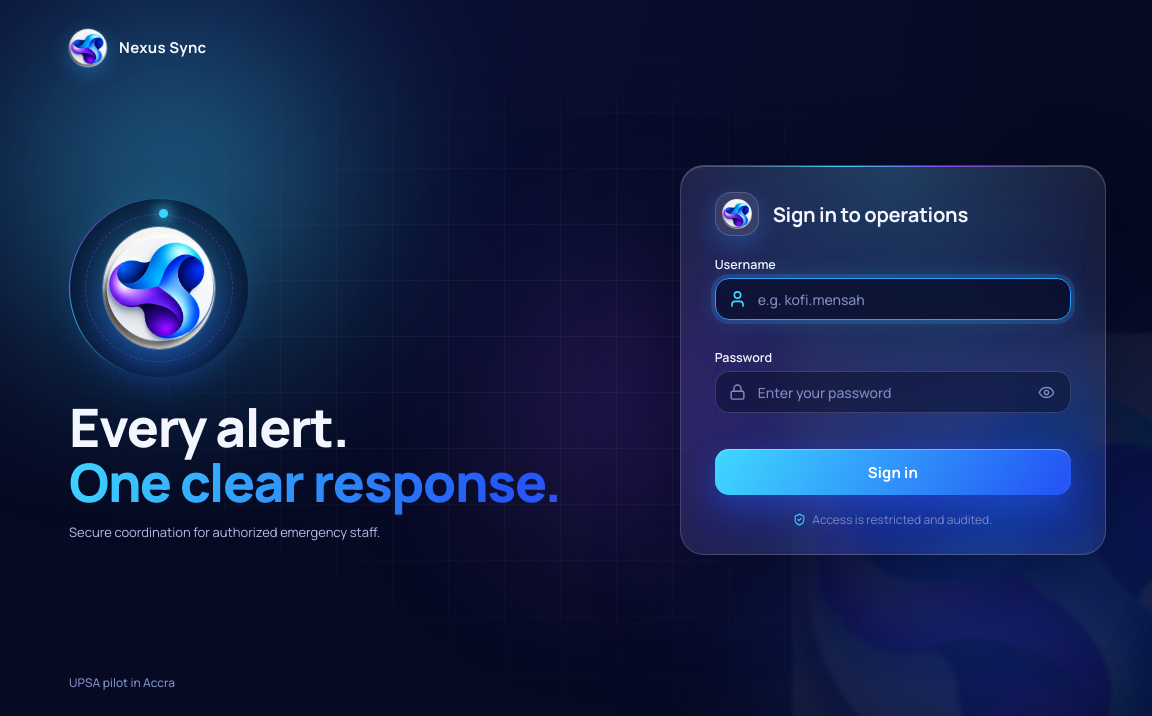
Scenario: App auth access control › submits login form and navigates to dashboard
The image size is (1152, 716).
In the field labelled "Username": coordinates (893, 299) left=715, top=278, right=1071, bottom=320, type "  coordinator1  "
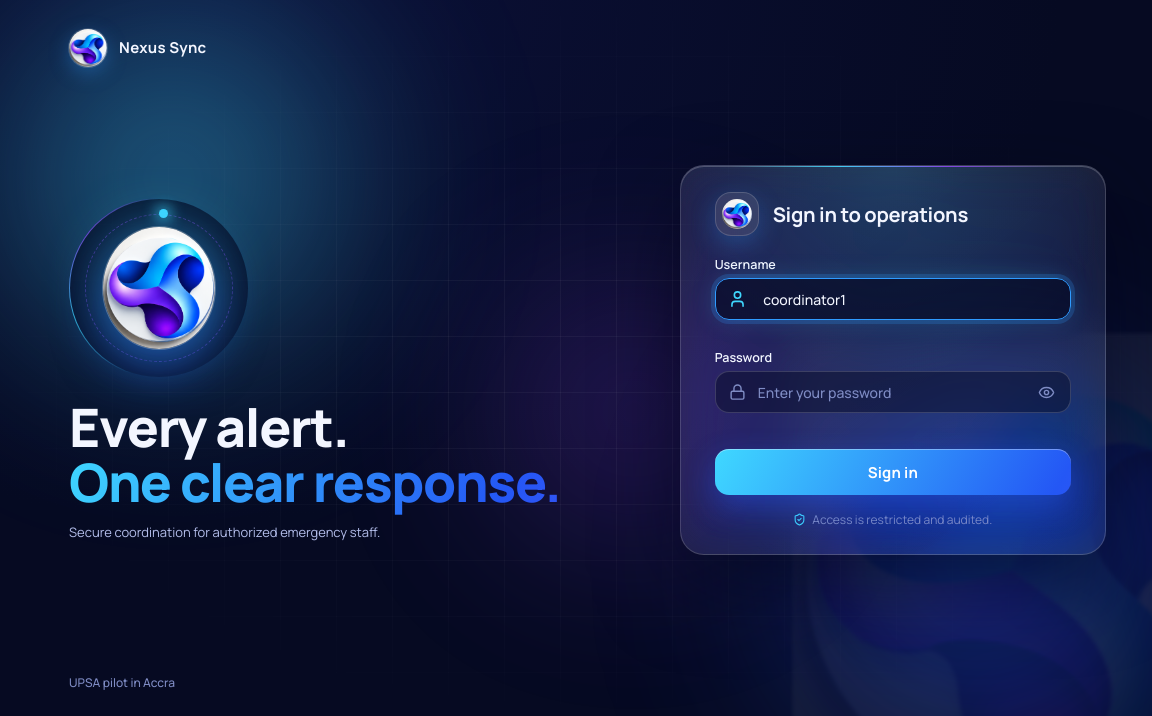
In the password field labelled "Password": coordinates (893, 392) left=715, top=371, right=1071, bottom=413, type "secret-pass"
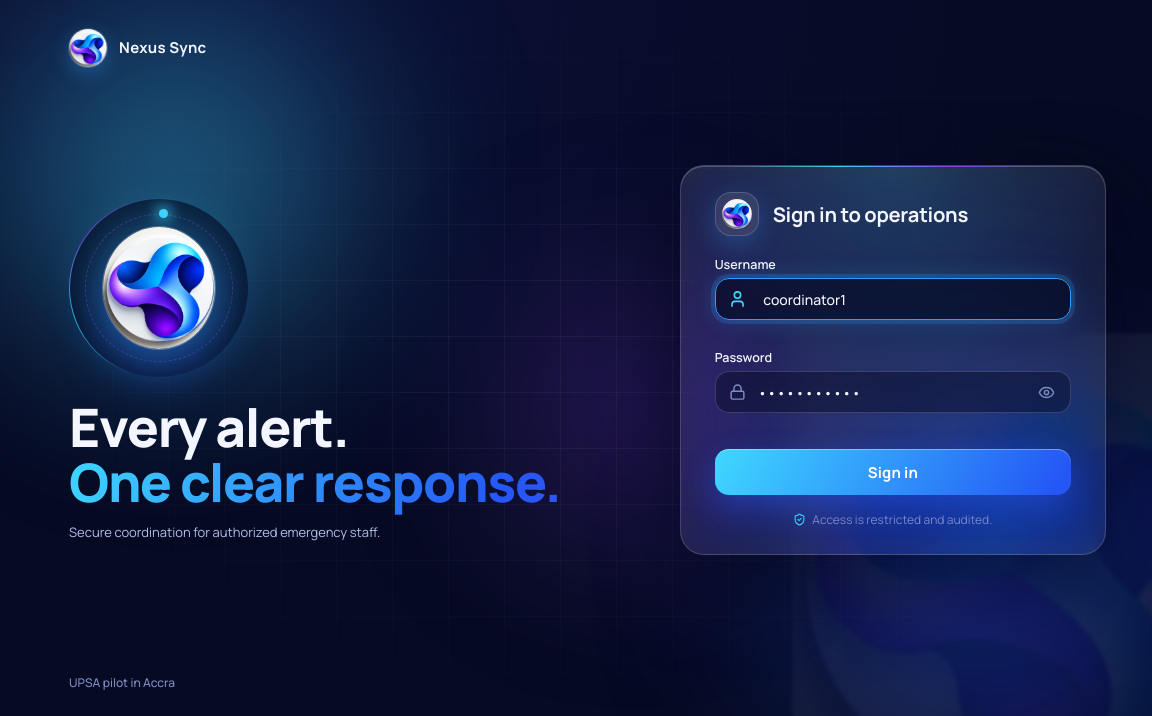
Click the button "Sign in": coordinates (893, 472) left=715, top=449, right=1071, bottom=495
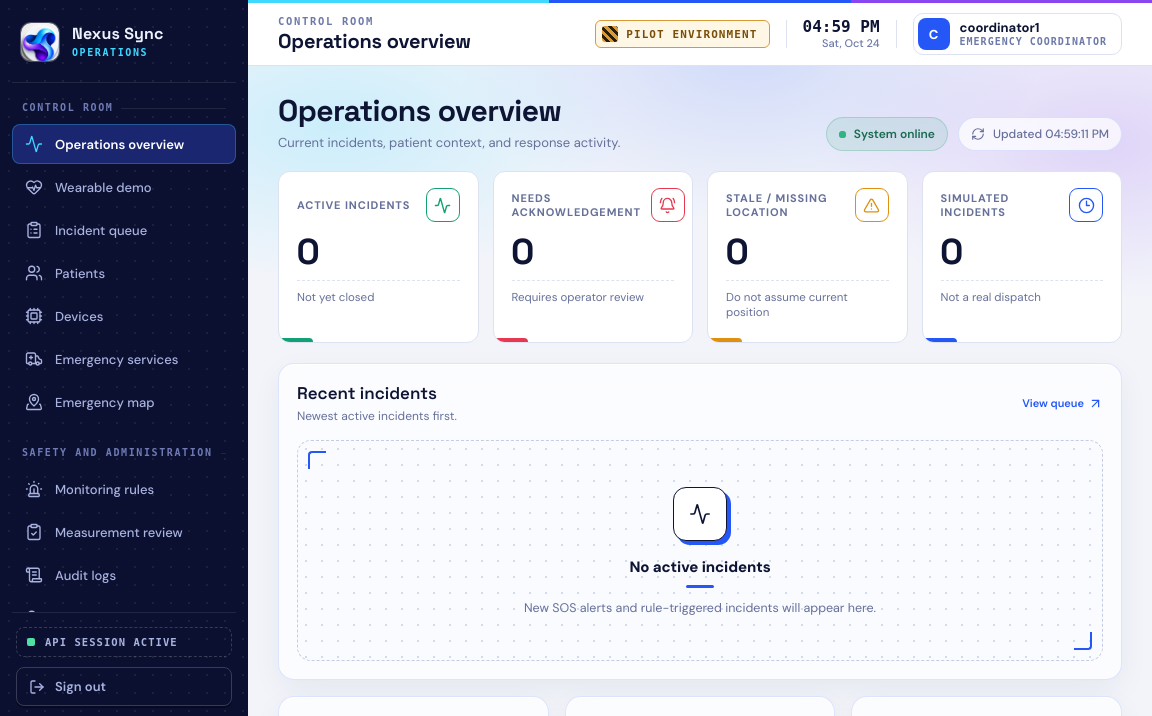
Expected: the heading "Operations overview" is shown, left=278, top=91, right=561, bottom=130
